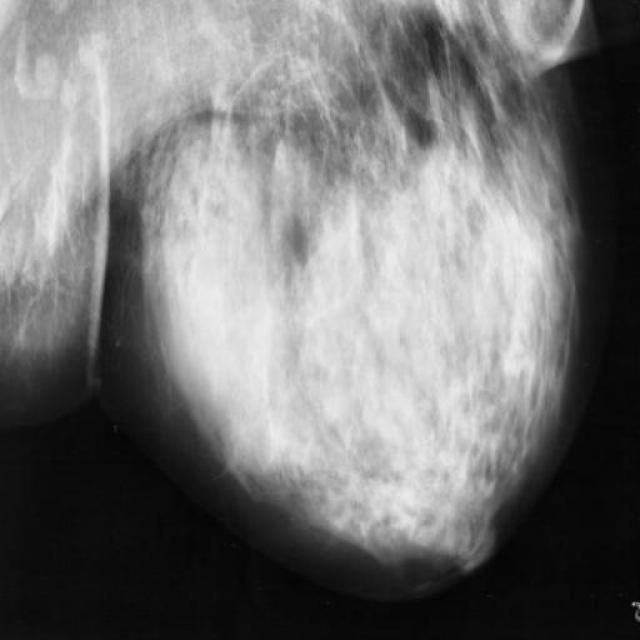cancer: (254, 247, 308, 324)
